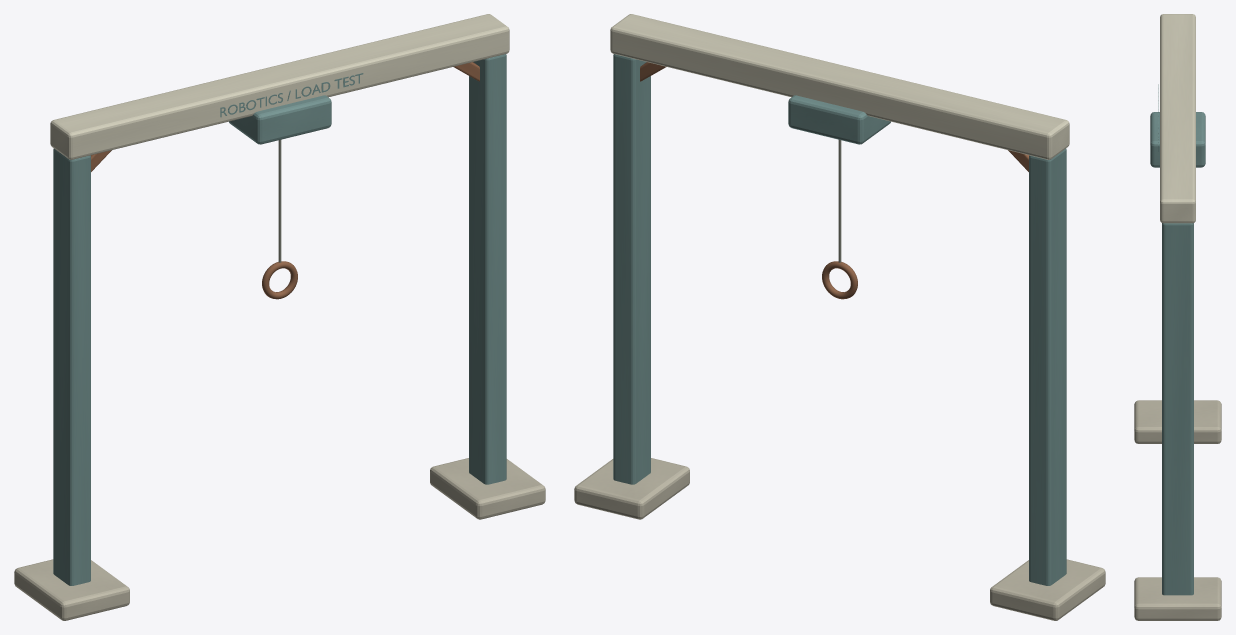
File: Test_Gantry.glb
The picture shows the model from 3 angles, left to right: view 1: azimuth 30°, elevation 25°; view 2: azimuth 150°, elevation 25°; view 3: azimuth 270°, elevation 25°; orthographic projection. The views are drawn at different scales.
Parts seen in each view (by area): view 1: Test_Gantry; view 2: Test_Gantry; view 3: Test_Gantry.
Boxes of the visible parts, x1=… form: Test_Gantry: x1=14, y1=14, x2=545, y2=620; Test_Gantry: x1=574, y1=14, x2=1105, y2=620; Test_Gantry: x1=1134, y1=14, x2=1221, y2=620.
Size of the model in its own units: 8.4 by 7.82 by 1.5.
5 materials, 4 textured.
